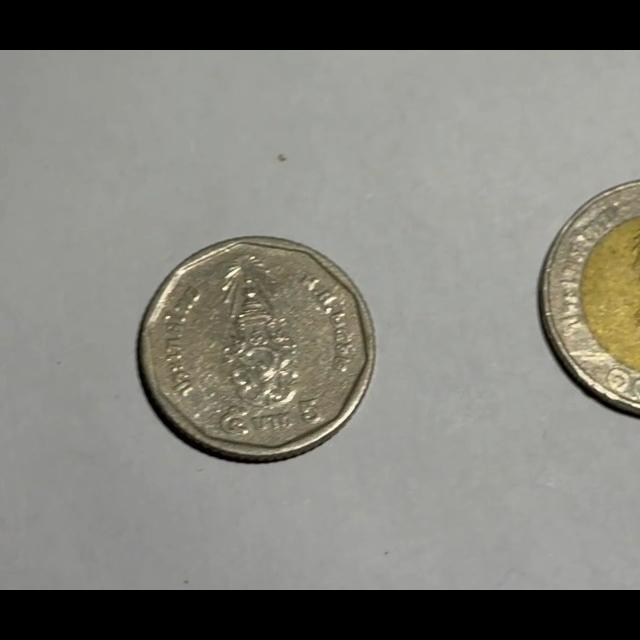10-baht: (521, 172, 640, 430)
5-baht: (138, 235, 375, 461)
